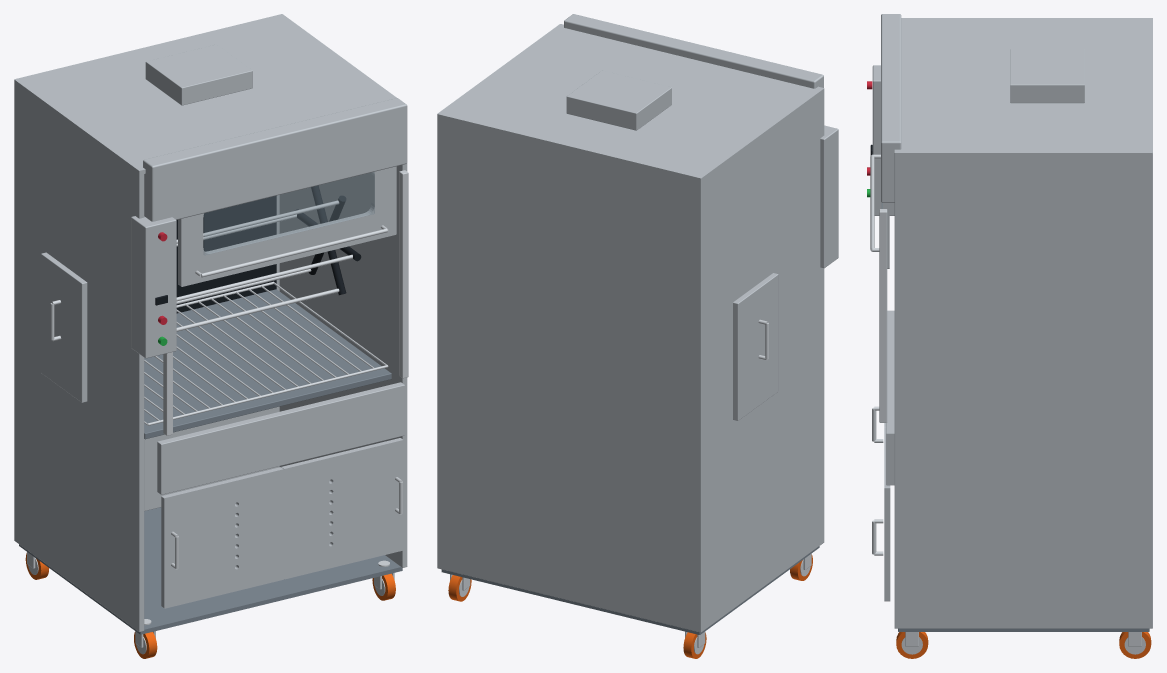
Rendered from horno-ecologico-para-pollo-a-la-brasa-v1.glb.
3 views of the same model, side by side, from view 1: azimuth 30°, elevation 25°; view 2: azimuth 150°, elevation 25°; view 3: azimuth 270°, elevation 25° (orthographic). The views are drawn at different scales.
Visible parts, largest first — view 1: Acero_satinado, Interior_acero, Acero_pulido, Visor_vidrio, Cavidades_y_fundicion, Ruedas_naranjas; view 2: Acero_satinado, Interior_acero, Ruedas_naranjas, Acero_pulido; view 3: Acero_satinado, Acero_pulido, Interior_acero, Ruedas_naranjas.
Boxes of the visible parts, bbox=[...] form: Acero_satinado: bbox=[14, 14, 407, 632]; Interior_acero: bbox=[19, 289, 402, 634]; Acero_pulido: bbox=[27, 170, 408, 654]; Visor_vidrio: bbox=[204, 172, 374, 255]; Cavidades_y_fundicion: bbox=[155, 185, 361, 313]; Ruedas_naranjas: bbox=[25, 553, 395, 658]; Acero_satinado: bbox=[437, 14, 838, 632]; Interior_acero: bbox=[441, 546, 819, 634]; Ruedas_naranjas: bbox=[448, 554, 812, 658]; Acero_pulido: bbox=[450, 319, 811, 654]; Acero_satinado: bbox=[872, 14, 1152, 628]; Acero_pulido: bbox=[870, 154, 1145, 654]; Interior_acero: bbox=[898, 628, 1149, 631]; Ruedas_naranjas: bbox=[896, 632, 1151, 658].
Bounding box in the file's own units: 0.996 × 1.72 × 0.841.
